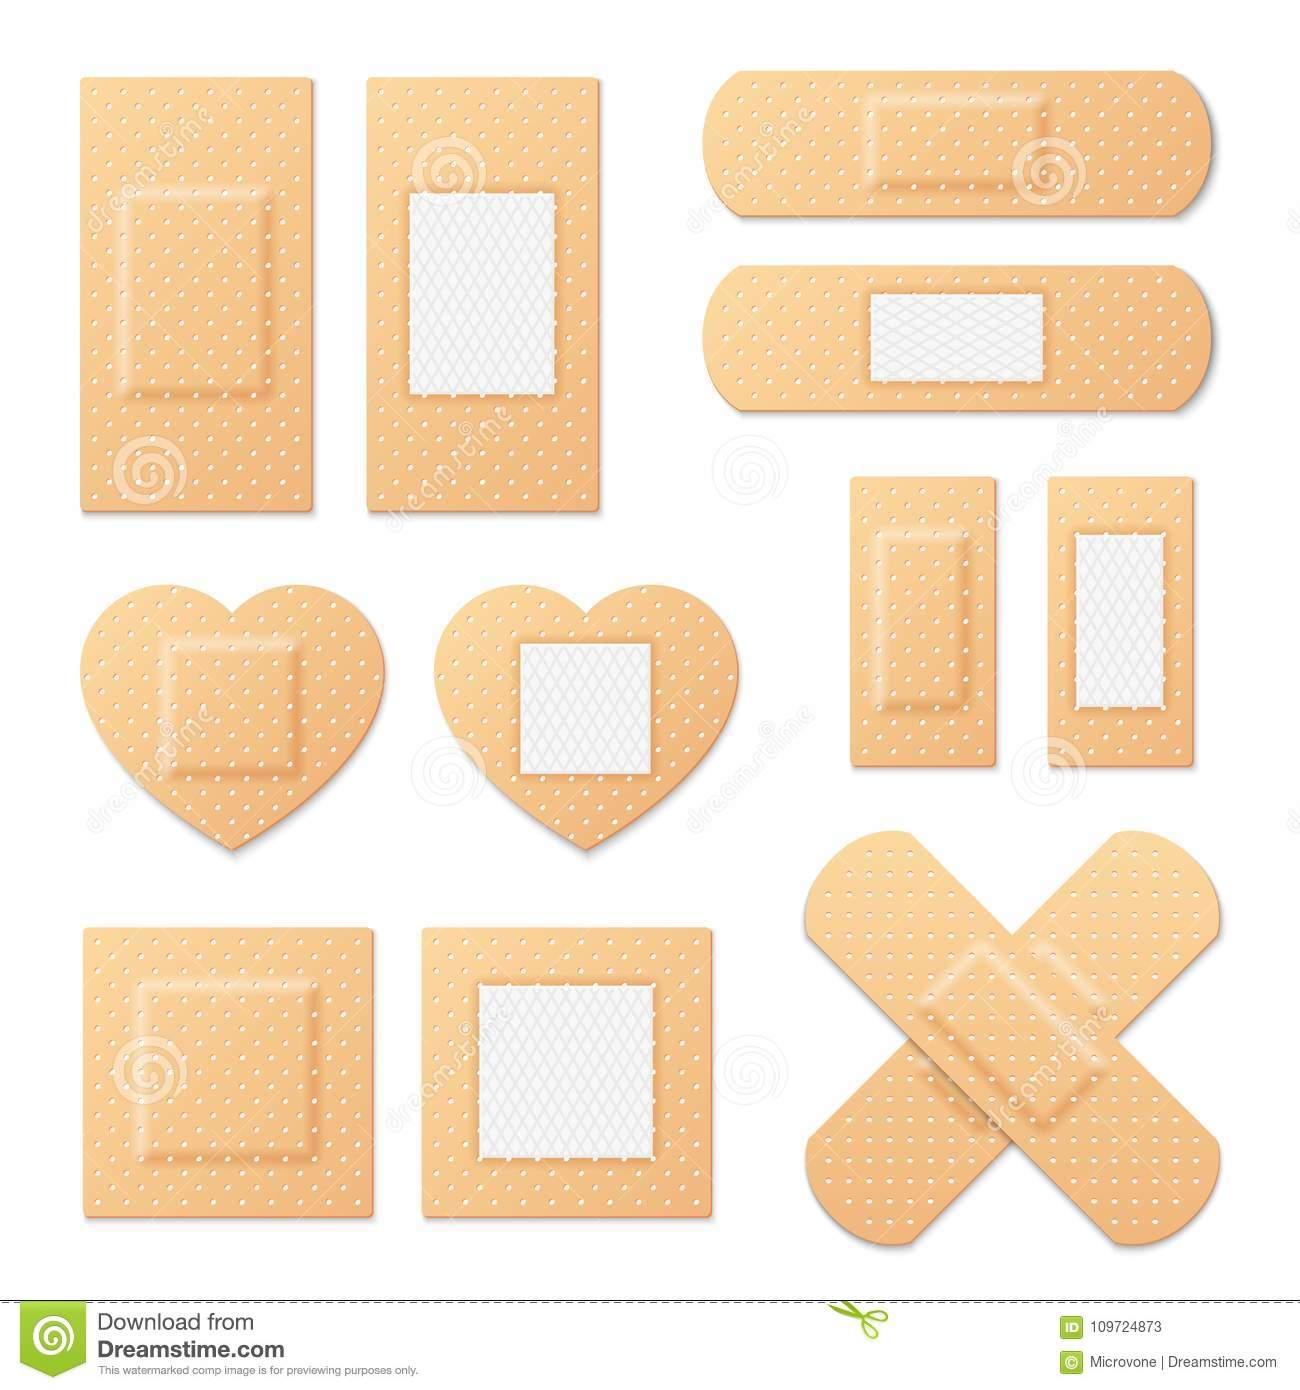bandage: (775, 807, 1228, 1278), (347, 62, 617, 533), (75, 67, 335, 535), (404, 910, 743, 1242), (67, 910, 387, 1228), (72, 575, 408, 867), (435, 588, 758, 860), (700, 258, 1217, 423), (693, 75, 1223, 222), (1035, 473, 1207, 781), (837, 470, 1006, 774)
